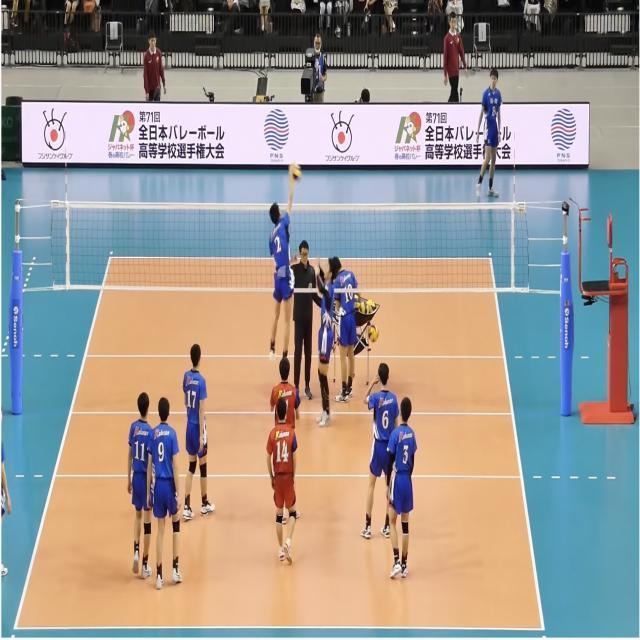spike: (266, 158, 304, 369)
